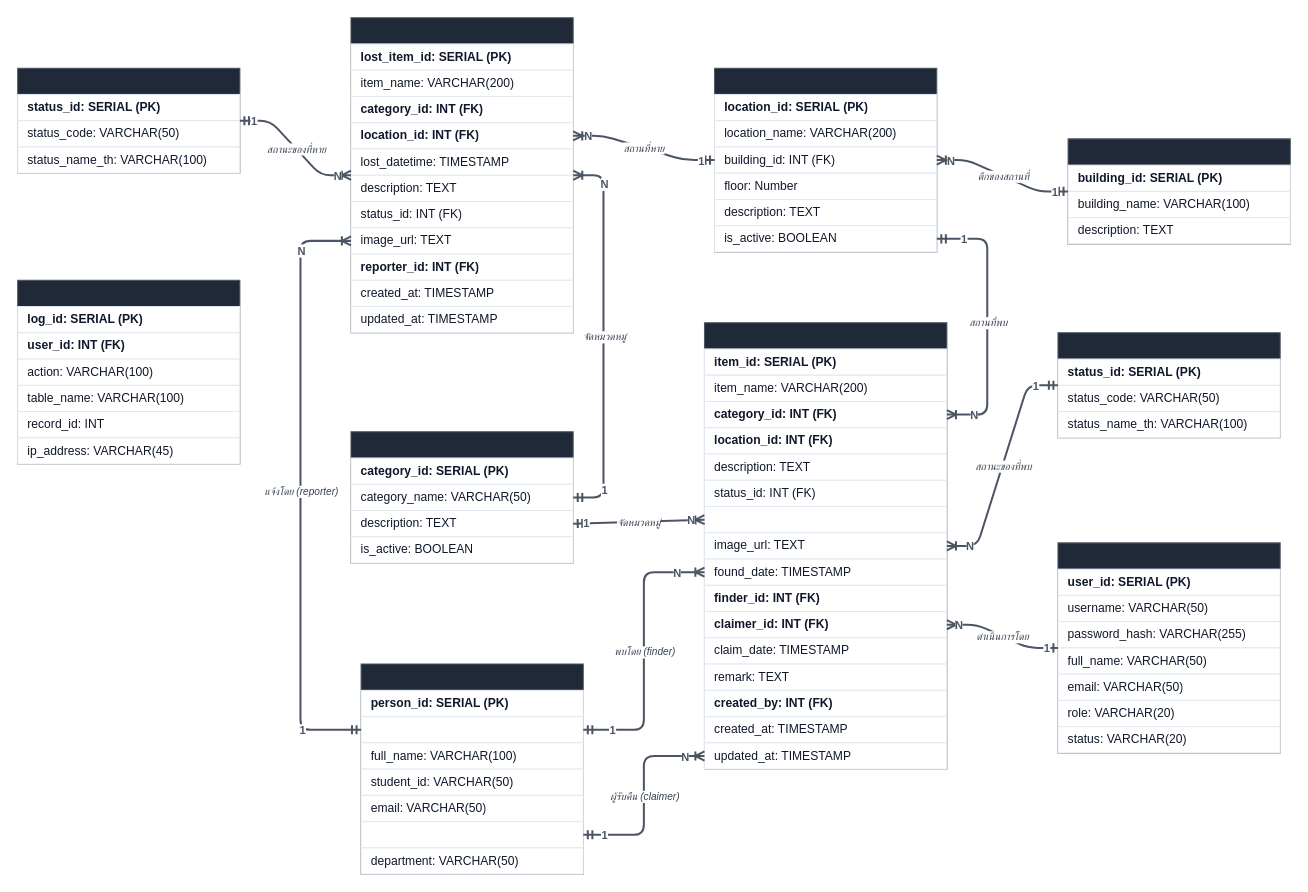
This 1308x892 diagram has some shape labels left out. Here are the shapes that lost their labels. From the top down, the box of each, then its label:
(17, 67, 240, 173): lost_item_statuses
(350, 17, 573, 333): lost_items
(714, 67, 937, 252): locations
(1067, 138, 1290, 244): buildings
(17, 279, 240, 464): audit_logs
(1057, 332, 1280, 438): found_item_statuses
(350, 431, 573, 563): categories
(703, 506, 947, 533): locker_id: VARCHAR(50)
(703, 322, 947, 769): items
(1057, 542, 1280, 753): users
(360, 716, 583, 743): person_type: VARCHAR(20)
(360, 663, 583, 874): persons
(360, 821, 583, 848): phone: VARCHAR(20)
